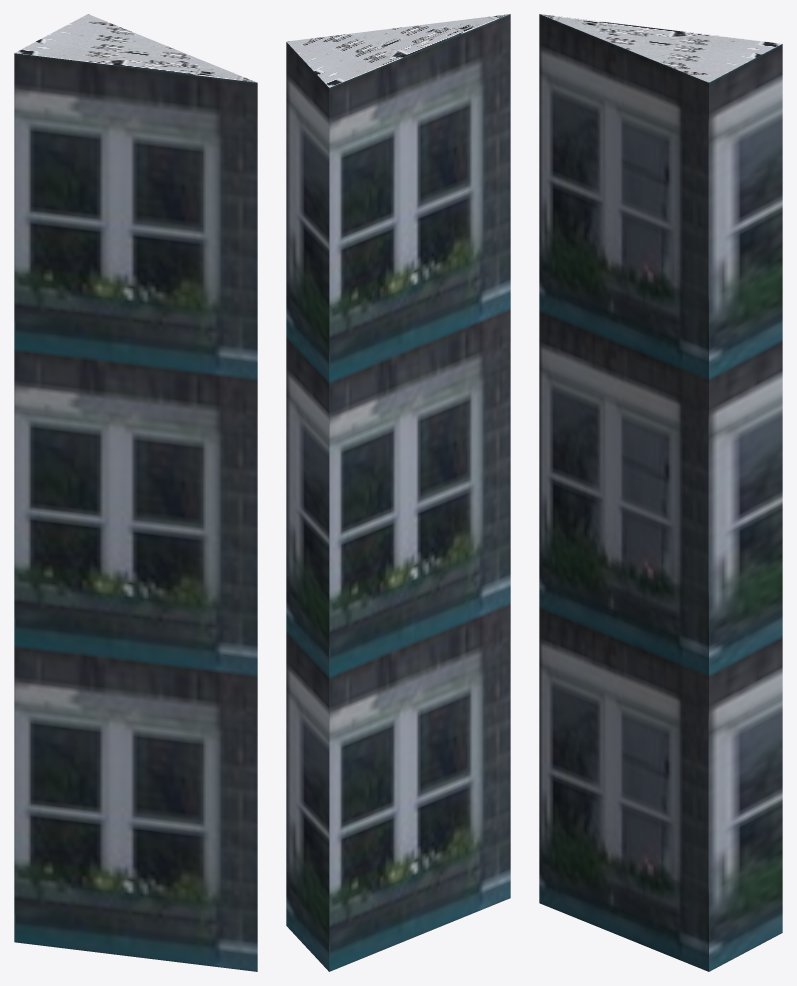
File: ResTex__2279.fbx
The picture shows the model from 3 angles, left to right: view 1: azimuth 90°, elevation 25°; view 2: azimuth 150°, elevation 25°; view 3: azimuth 270°, elevation 25°; orthographic projection.
Visible parts, largest first — view 1: CityEngineMaterial_11_m, CityEngineMaterial_m; view 2: CityEngineMaterial_11_m, CityEngineMaterial_m; view 3: CityEngineMaterial_11_m, CityEngineMaterial_m.
Part boxes in pixels (box(x1,y1,x2,y2)): CityEngineMaterial_11_m: box(14, 53, 257, 971); CityEngineMaterial_m: box(14, 14, 256, 82); CityEngineMaterial_11_m: box(286, 14, 510, 971); CityEngineMaterial_m: box(286, 14, 509, 87); CityEngineMaterial_11_m: box(539, 14, 782, 971); CityEngineMaterial_m: box(540, 14, 782, 82).
Size of the model in its own units: 1.49 by 9 by 2.23.
2 materials, 2 textured.
